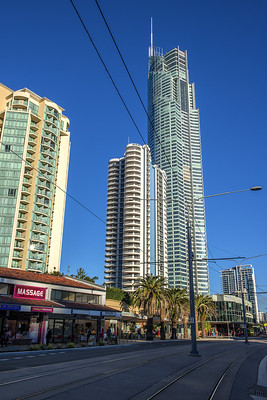low: (145, 40, 214, 324), (100, 140, 171, 318), (221, 262, 260, 342)
